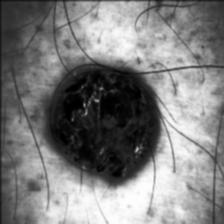Potentially Malignant Skin Tumors: (48, 67, 158, 175)
